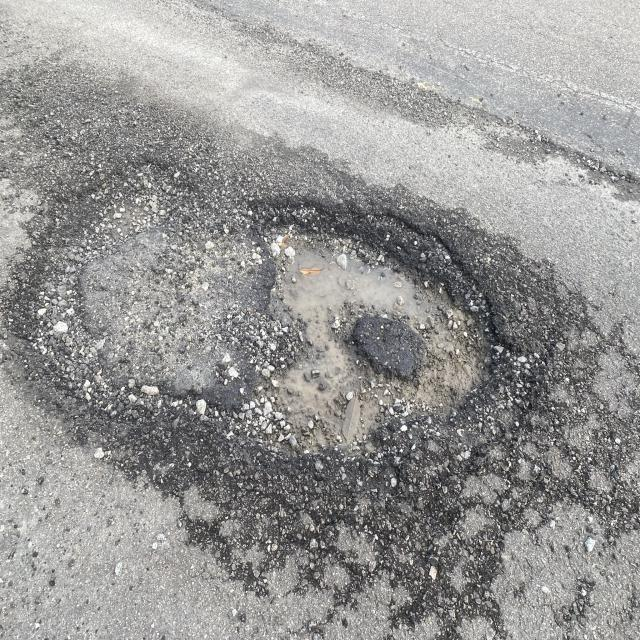Pothole: (39, 136, 579, 483)
